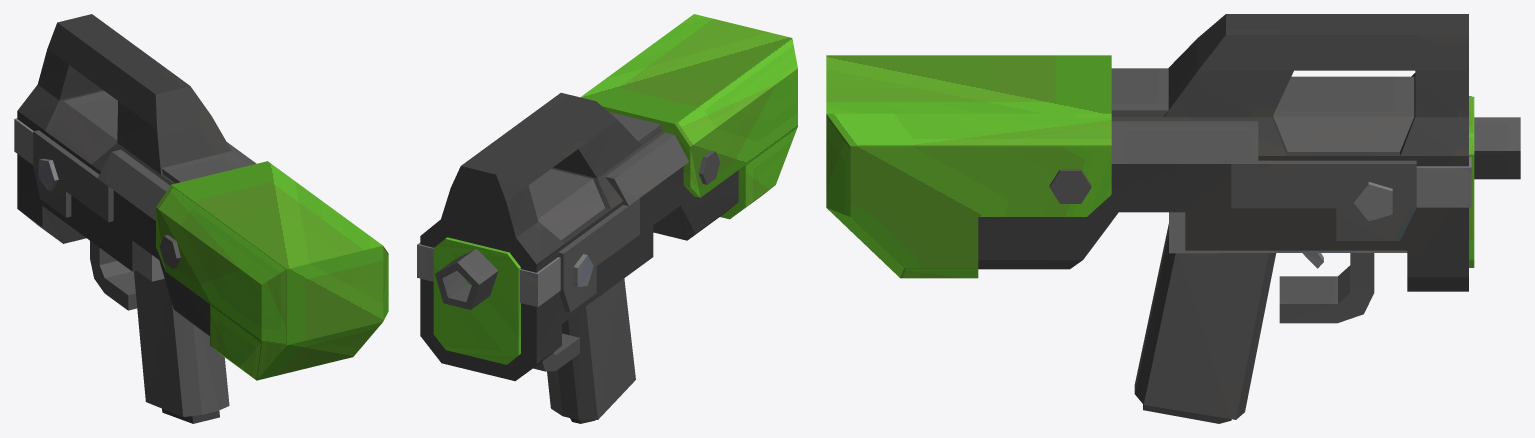
File: pistol_6.glb
3 views of the same model, side by side, from view 1: azimuth 30°, elevation 25°; view 2: azimuth 150°, elevation 25°; view 3: azimuth 270°, elevation 25° (orthographic). The views are drawn at different scales.
Parts seen in each view (by area): view 1: pistol_6; view 2: pistol_6; view 3: pistol_6.
Boxes of the visible parts, bbox=[...] form: pistol_6: bbox=[14, 14, 388, 423]; pistol_6: bbox=[417, 14, 797, 423]; pistol_6: bbox=[826, 14, 1520, 423].
Size of the model in its own units: 0.0954 by 0.2159 by 0.3452.
1 material, 1 textured.
